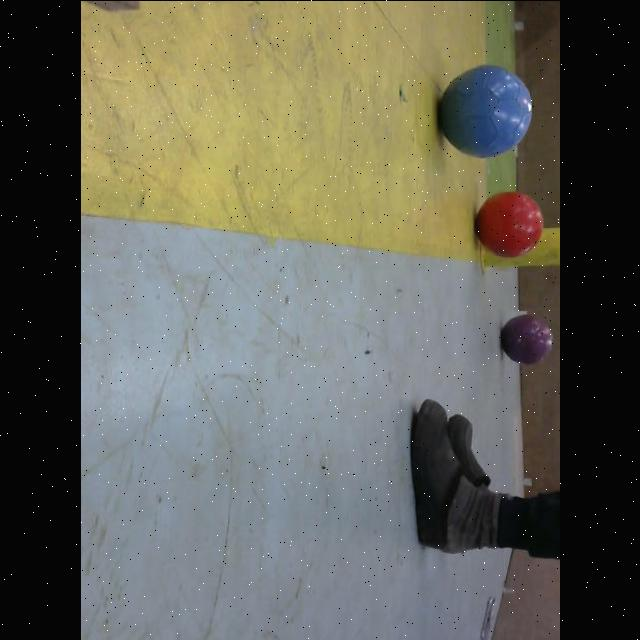B: (438, 64, 534, 160)
P: (500, 312, 554, 366)
R: (476, 192, 544, 258)
